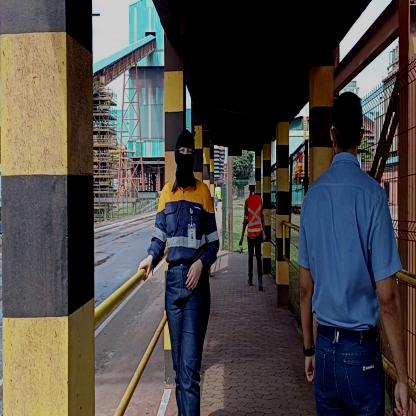Balaclava: (174, 129, 196, 191)
Capacete: (246, 172, 256, 186)
Operacional: (150, 182, 221, 266)
colete: (244, 192, 264, 242)
